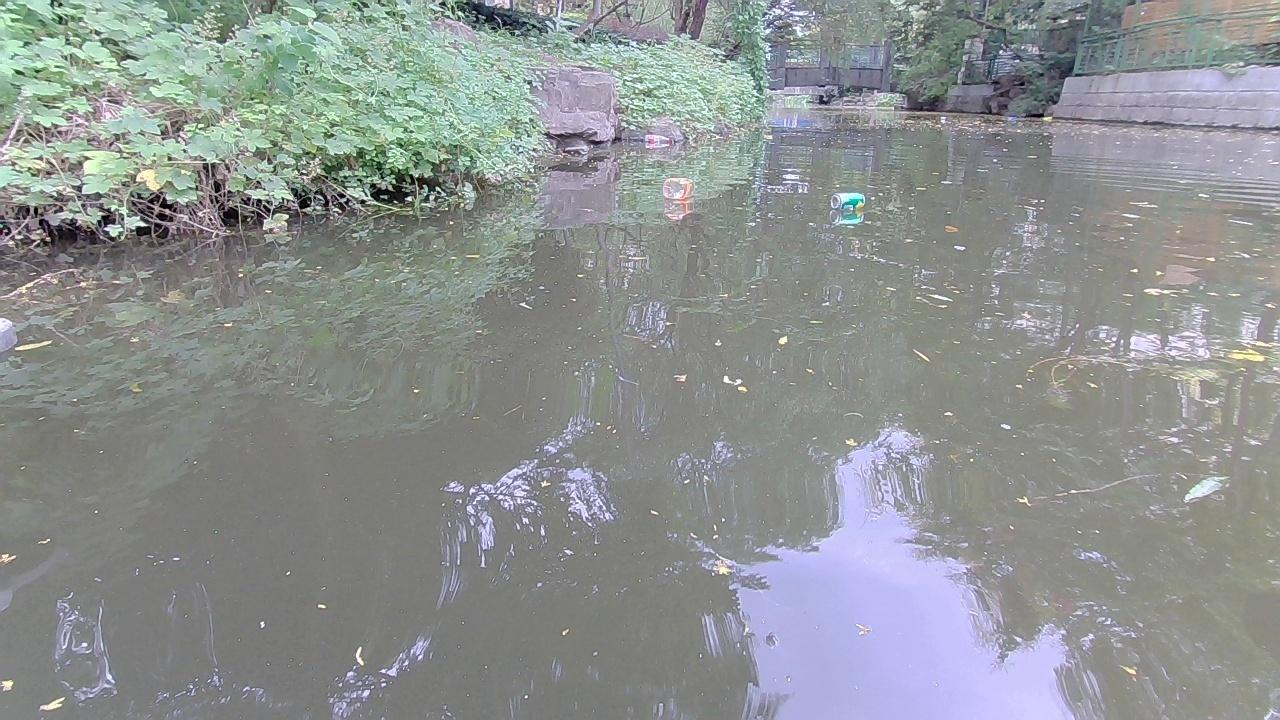bottle: (658, 174, 697, 197), (829, 191, 865, 208), (644, 129, 676, 145), (1039, 112, 1053, 124), (1003, 115, 1019, 125), (936, 113, 945, 121)
